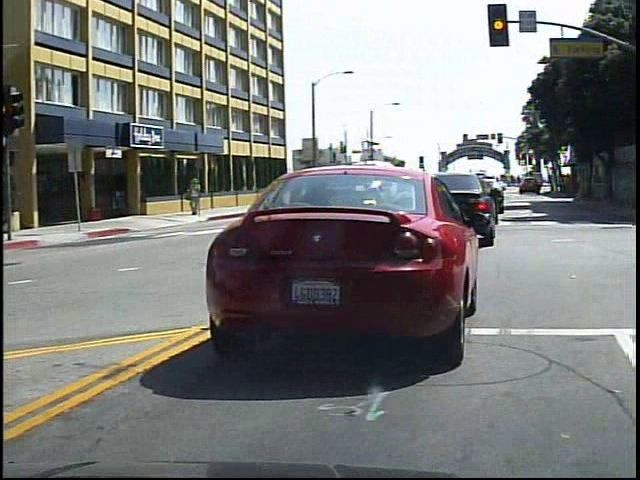person: (188, 175, 207, 219)
